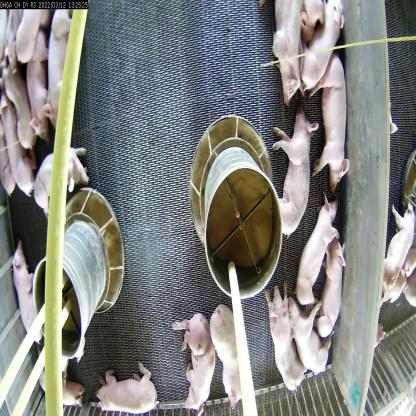Pig: (271, 106, 321, 242), (310, 52, 351, 195), (296, 191, 342, 308), (264, 272, 306, 393), (170, 304, 215, 416), (1, 88, 44, 201), (32, 142, 94, 219), (44, 3, 81, 130), (300, 0, 344, 101), (21, 26, 57, 149), (285, 290, 333, 382), (306, 231, 345, 340), (10, 235, 45, 353), (209, 299, 244, 413), (96, 356, 159, 416), (272, 0, 305, 111), (380, 194, 415, 292)
